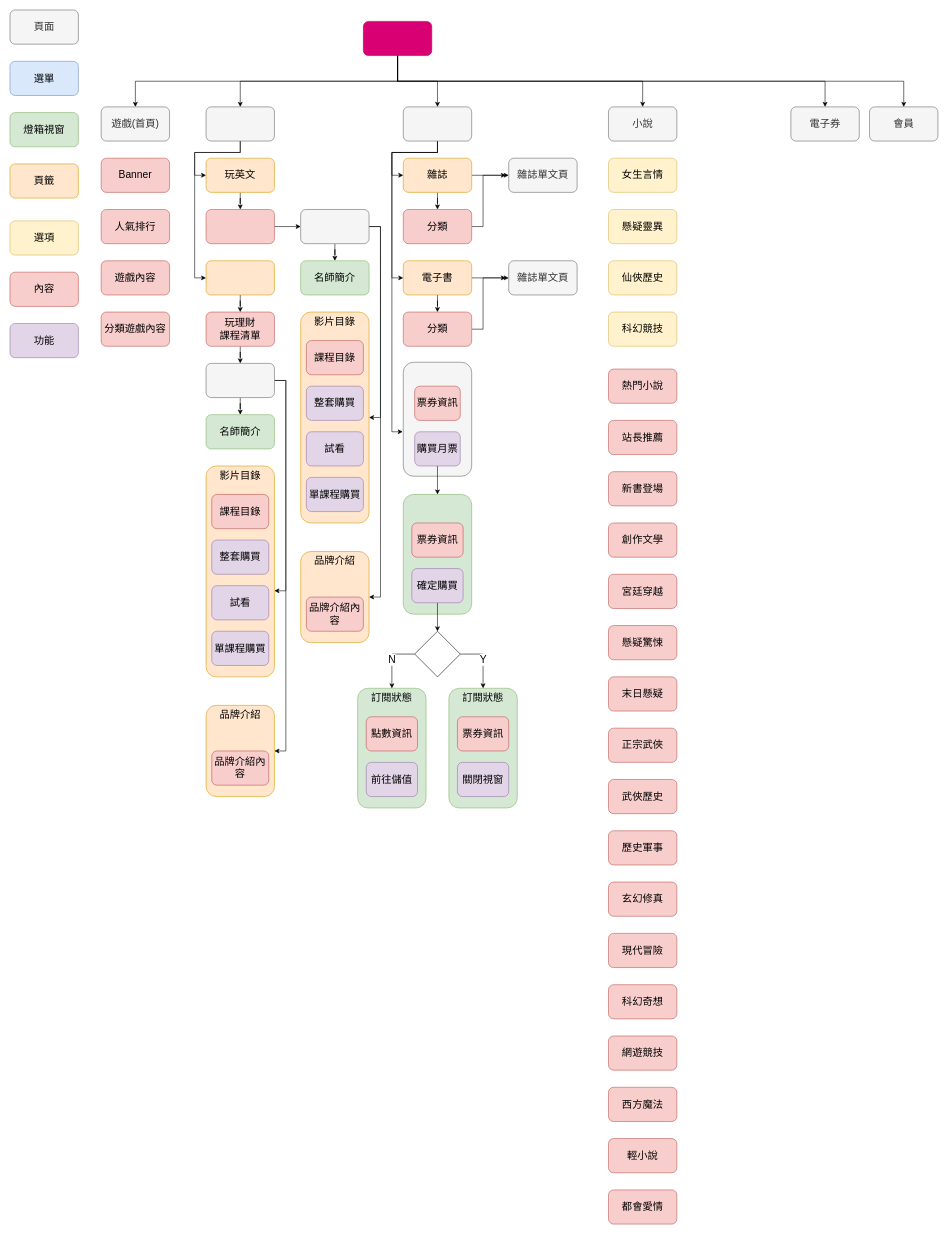
Image size: 948x1234. Some labels were removed from this diagram. Each missing label, with the box of its shape:
Wakool: (363, 21, 432, 56)
玩理財: (205, 260, 274, 295)
玩理財 單文頁: (205, 363, 274, 398)
玩英文 單文頁: (300, 209, 369, 244)
玩英文 課程清單: (205, 209, 274, 244)
知識: (205, 106, 274, 141)
訂閱: (403, 362, 472, 476)
訂閱視窗: (403, 494, 472, 614)
閱讀: (403, 106, 472, 141)
點數餘額: (414, 631, 460, 677)
